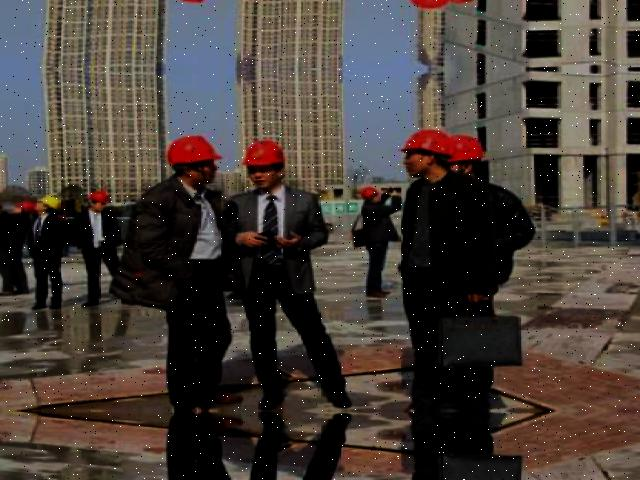Helmet: (162, 130, 224, 170), (396, 125, 454, 162), (239, 134, 288, 172), (443, 131, 485, 166)
